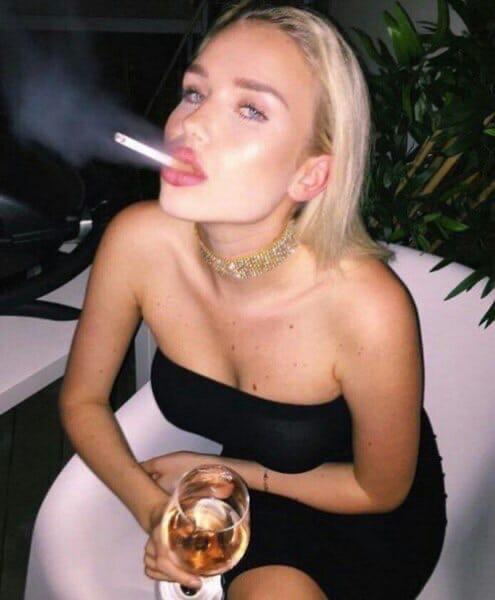cigarette: (113, 132, 195, 176)
